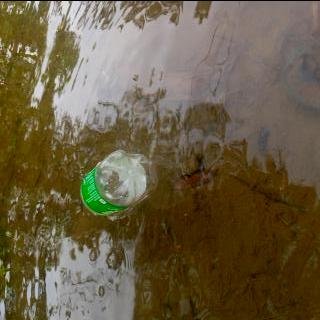bottle: (80, 148, 154, 216)
